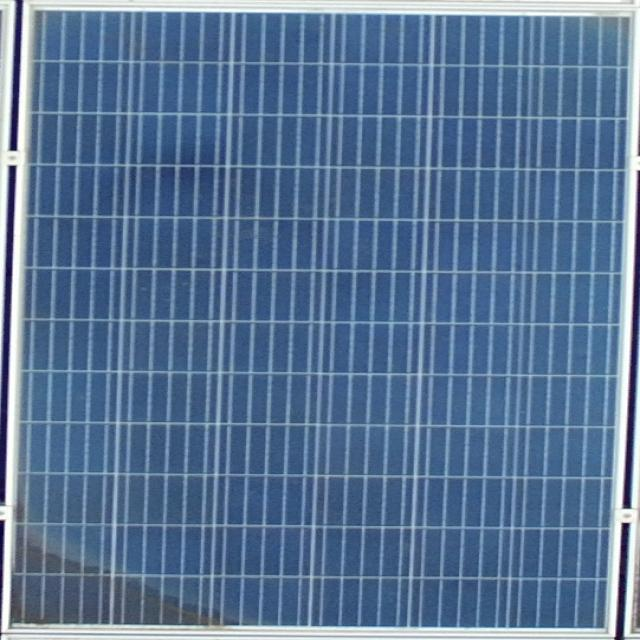Dust: (13, 523, 248, 631)
